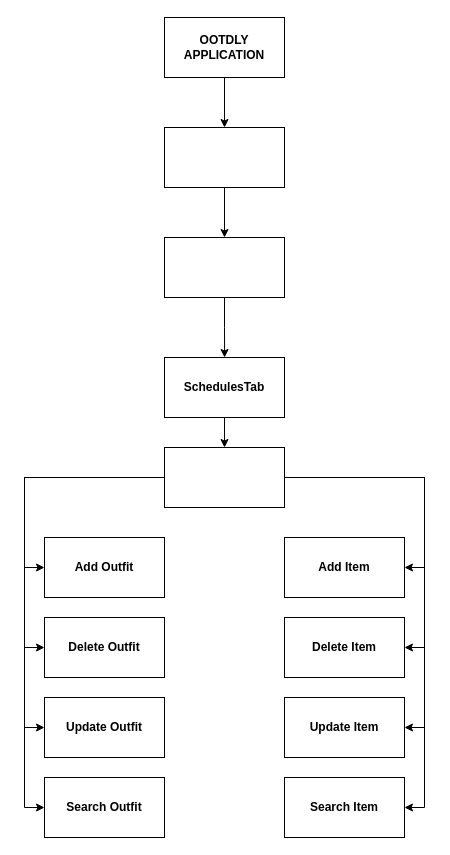
The diagram is 450 pixels wide and 855 high, and some of its shapes have lost their labels. The centre of each missing label's shape, as x and y in pixels:
Calendar: the point at 224,477
Google / Apple Account Login: the point at 224,267
Google / Apple Account Registration: the point at 224,157
